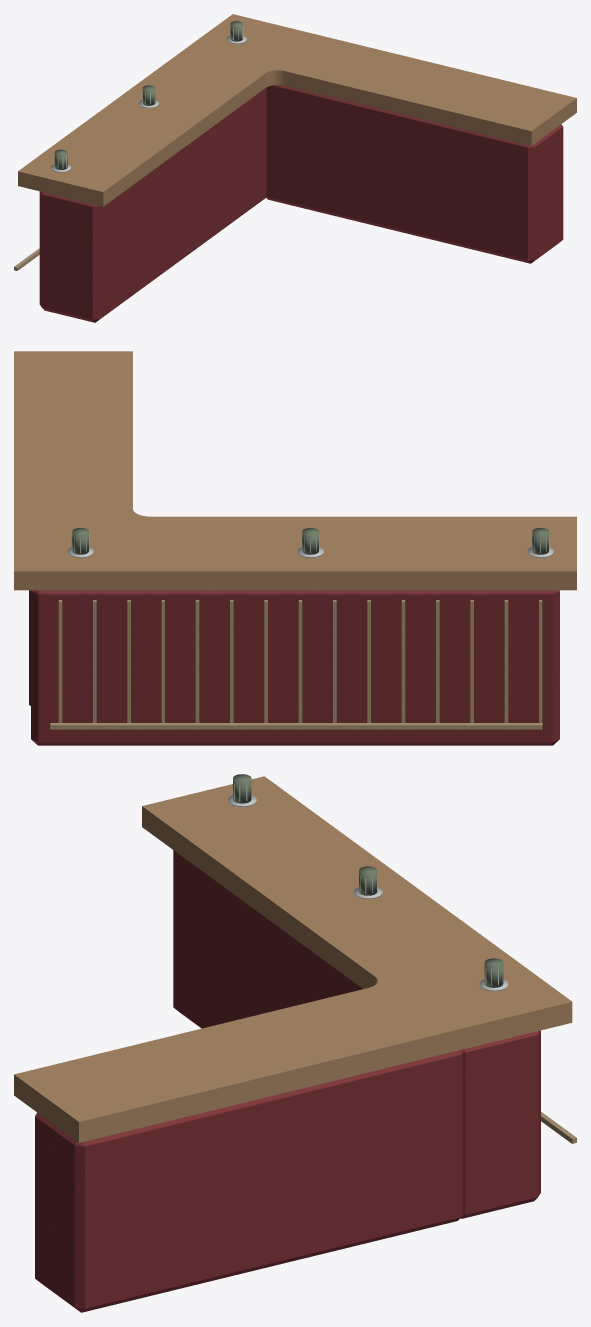
The model's file is yokocho-snack-counter.glb.
The picture shows the model from 3 angles, top to bottom: view 1: azimuth 30°, elevation 25°; view 2: azimuth 150°, elevation 25°; view 3: azimuth 270°, elevation 25°; orthographic projection. The views are drawn at different scales.
Visible parts, largest first — view 1: Shops/S04/Personality/BentSnackCounter__Night_WineUpholstery, Shops/S04/Personality/BentSnackCounter__Night_Walnut, Shops/S04/Personality/BentSnackCounter__Night_SmokyGlass; view 2: Shops/S04/Personality/BentSnackCounter__Night_WineUpholstery, Shops/S04/Personality/BentSnackCounter__Night_Walnut, Shops/S04/Personality/BentSnackCounter__Bronze, Shops/S04/Personality/BentSnackCounter__Night_SmokyGlass; view 3: Shops/S04/Personality/BentSnackCounter__Night_WineUpholstery, Shops/S04/Personality/BentSnackCounter__Night_Walnut, Shops/S04/Personality/BentSnackCounter__Night_SmokyGlass.
Boxes of the visible parts, left/top/right/bottom form: Shops/S04/Personality/BentSnackCounter__Night_WineUpholstery: left=39, top=85, right=563, bottom=322; Shops/S04/Personality/BentSnackCounter__Night_Walnut: left=18, top=14, right=576, bottom=206; Shops/S04/Personality/BentSnackCounter__Night_SmokyGlass: left=54, top=21, right=242, bottom=170; Shops/S04/Personality/BentSnackCounter__Night_WineUpholstery: left=29, top=590, right=559, bottom=745; Shops/S04/Personality/BentSnackCounter__Night_Walnut: left=14, top=351, right=576, bottom=590; Shops/S04/Personality/BentSnackCounter__Bronze: left=50, top=600, right=542, bottom=729; Shops/S04/Personality/BentSnackCounter__Night_SmokyGlass: left=72, top=528, right=548, bottom=554; Shops/S04/Personality/BentSnackCounter__Night_WineUpholstery: left=35, top=850, right=540, bottom=1312; Shops/S04/Personality/BentSnackCounter__Night_Walnut: left=14, top=776, right=572, bottom=1142; Shops/S04/Personality/BentSnackCounter__Night_SmokyGlass: left=233, top=774, right=503, bottom=987.
Bounding box in the file's own units: 3.71 × 1.13 × 2.55.
7 materials, 1 textured.
